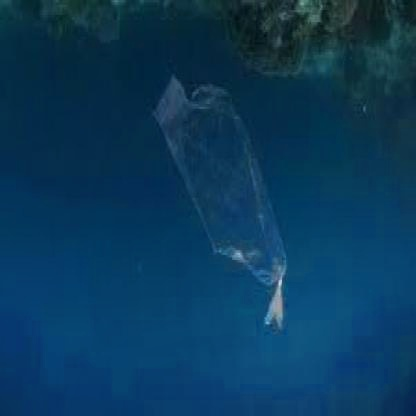pbag: (149, 69, 297, 340)
